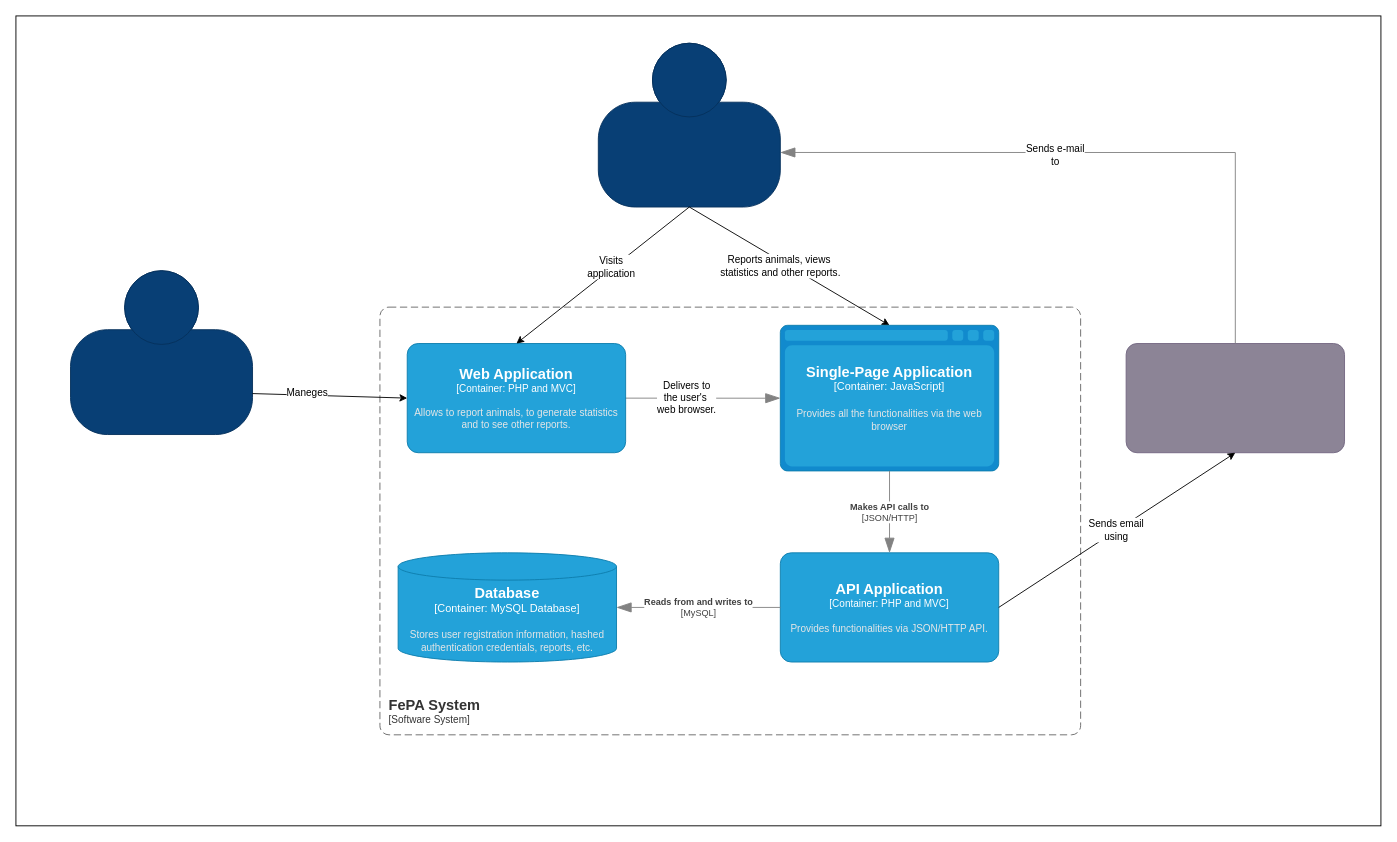
This 1397x842 diagram has some shape labels left out. Each missing label, with the centre of its shape:
"Admin [Person] Manages users and reports." goes at pixel 161 352.
"E-mail System [Software System] Google Email System" goes at pixel 1235 398.
"User [Person] A citizen who wants to report an animal." goes at pixel 688 124.
